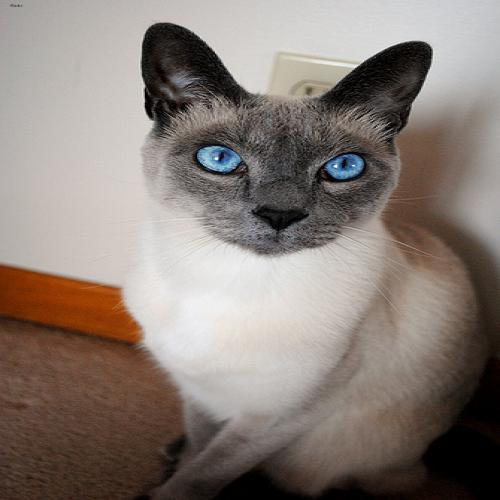siamese: (124, 13, 436, 262)
